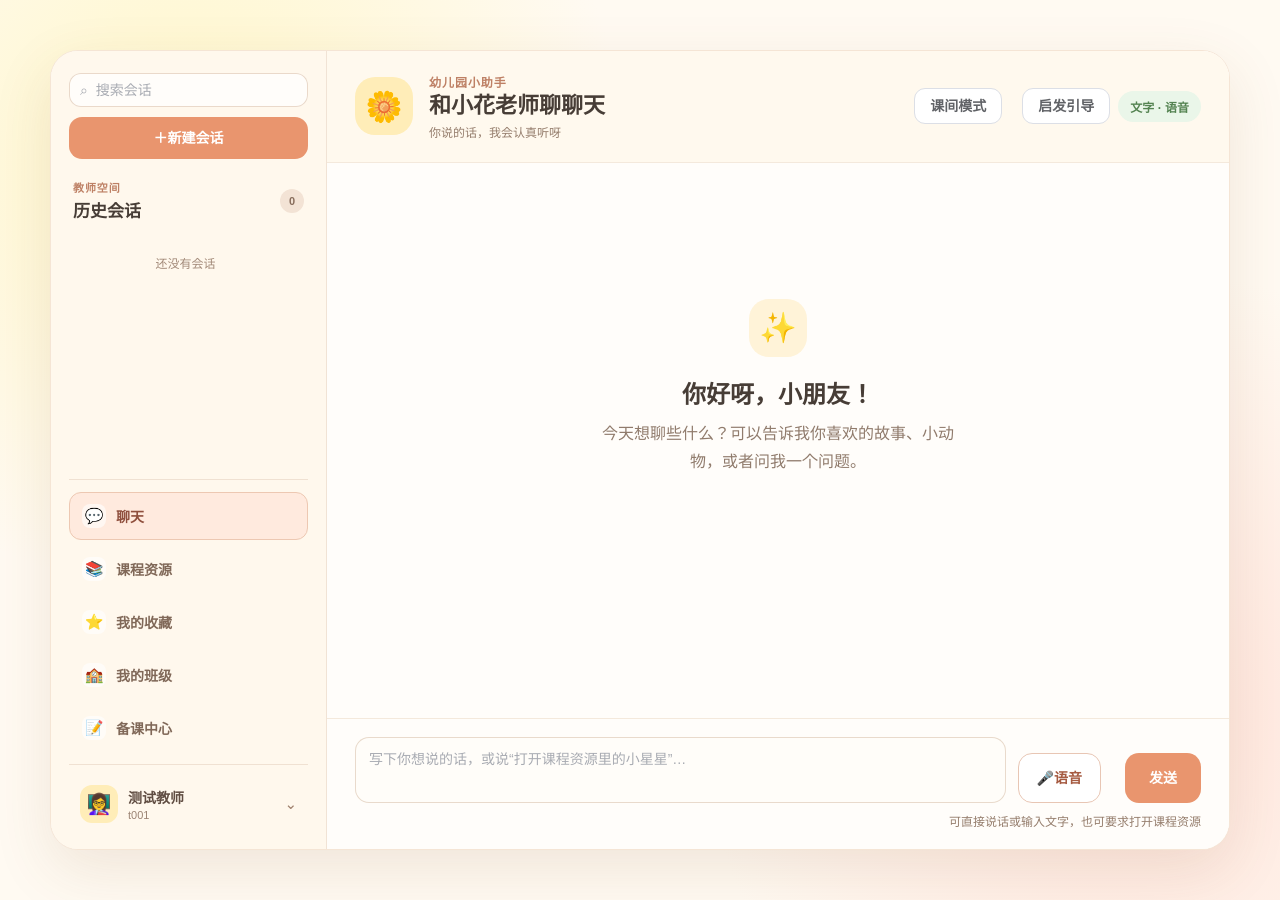
ChatView · 课间模式与启发式助教分离 › 3. break active：不显示「启发式课堂助教」与「生成 AI 草稿」
Note: 先打开助教，再进课间，验证课间接管主内容
Click the button with class "assistant-mode-button": (1066,106) [1022,88,1110,124]
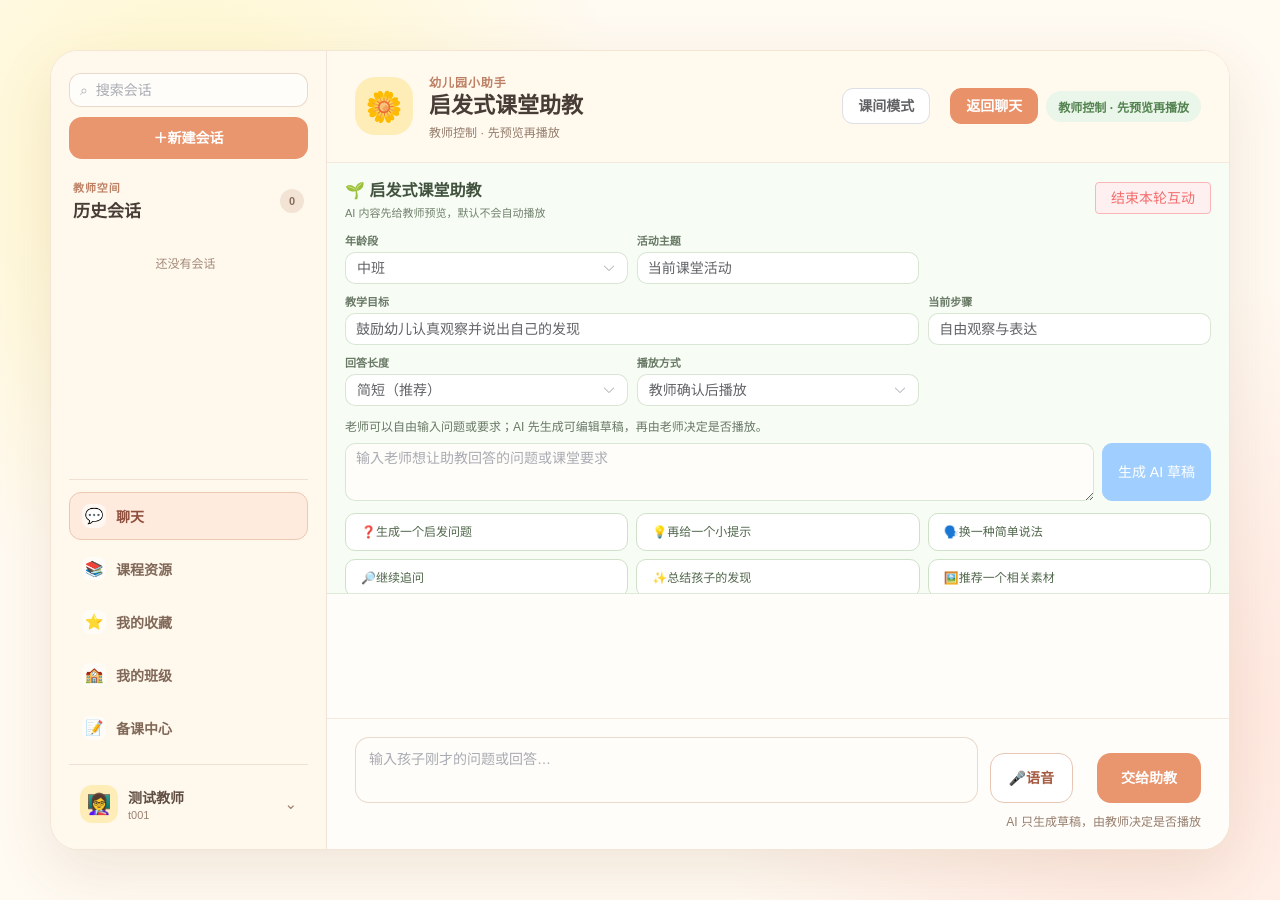
Check: the button with class "assistant-mode-button" reads "返回聊天", box [950,88,1038,124]
Click the button with class "break-mode-button": (886,106) [842,88,930,124]
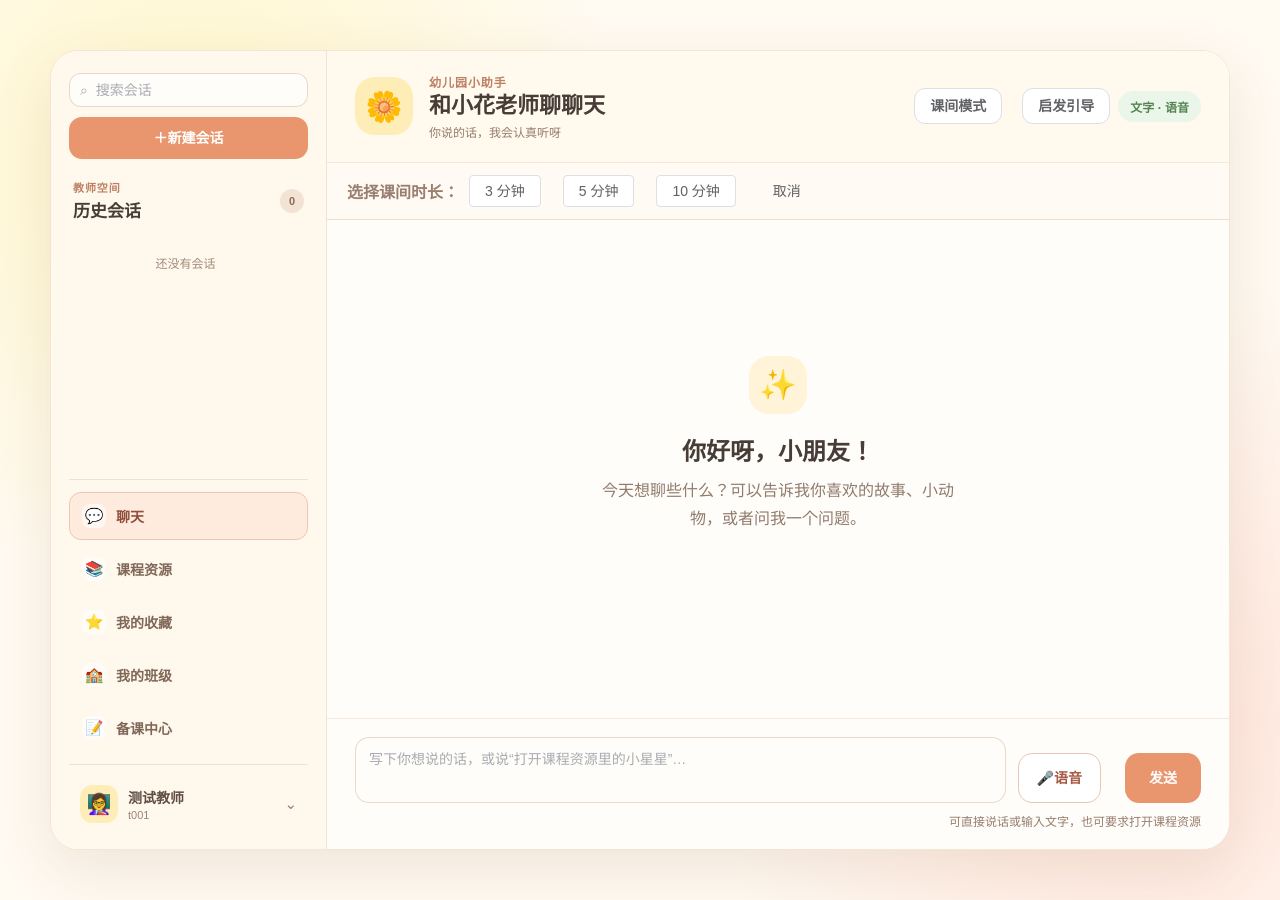
Click the button "3 分钟": (505,191) [469,175,541,207]
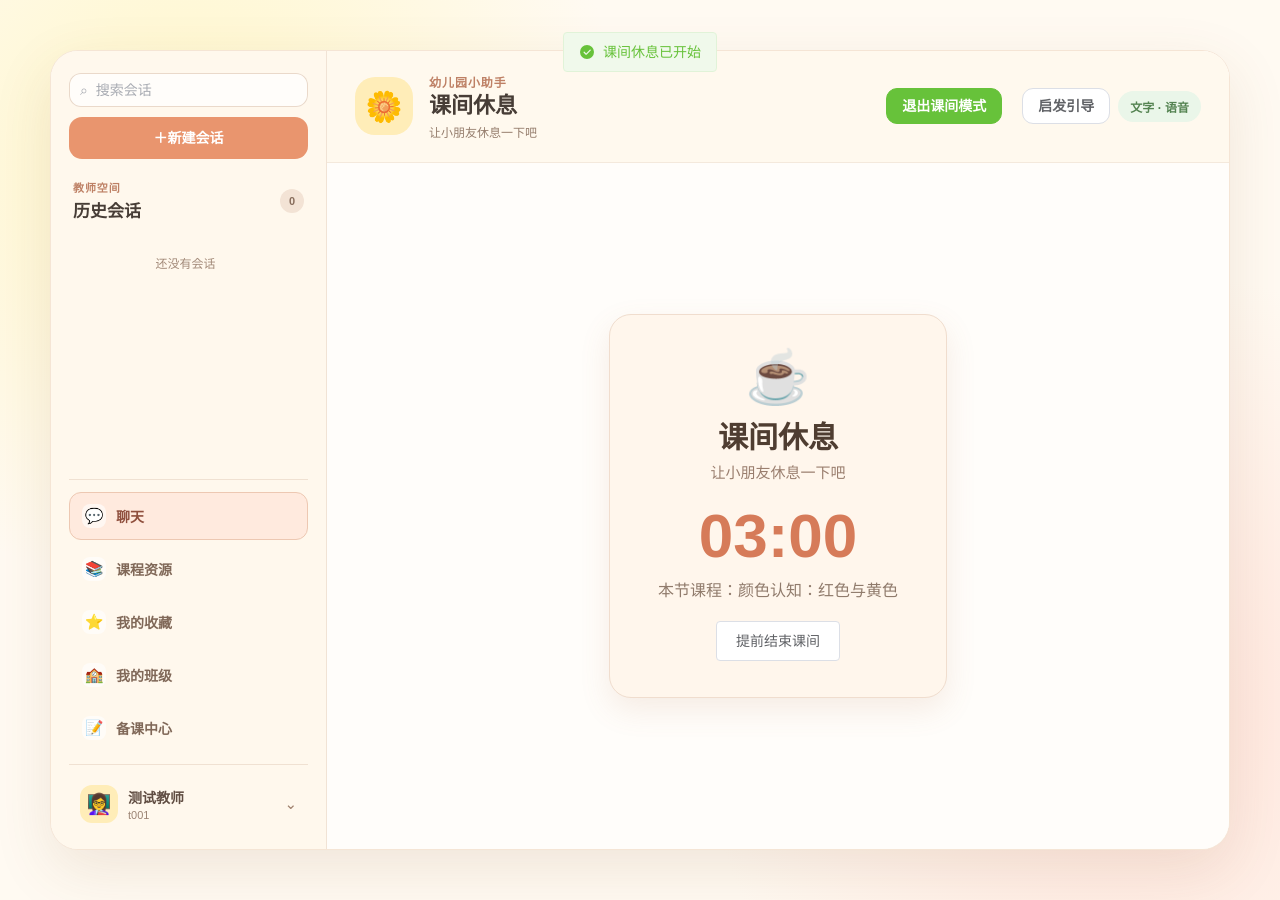
Check: the text "启发式课堂助教" is not shown
Check: the element with test id "chat-break" is shown, box [609,314,947,698]
